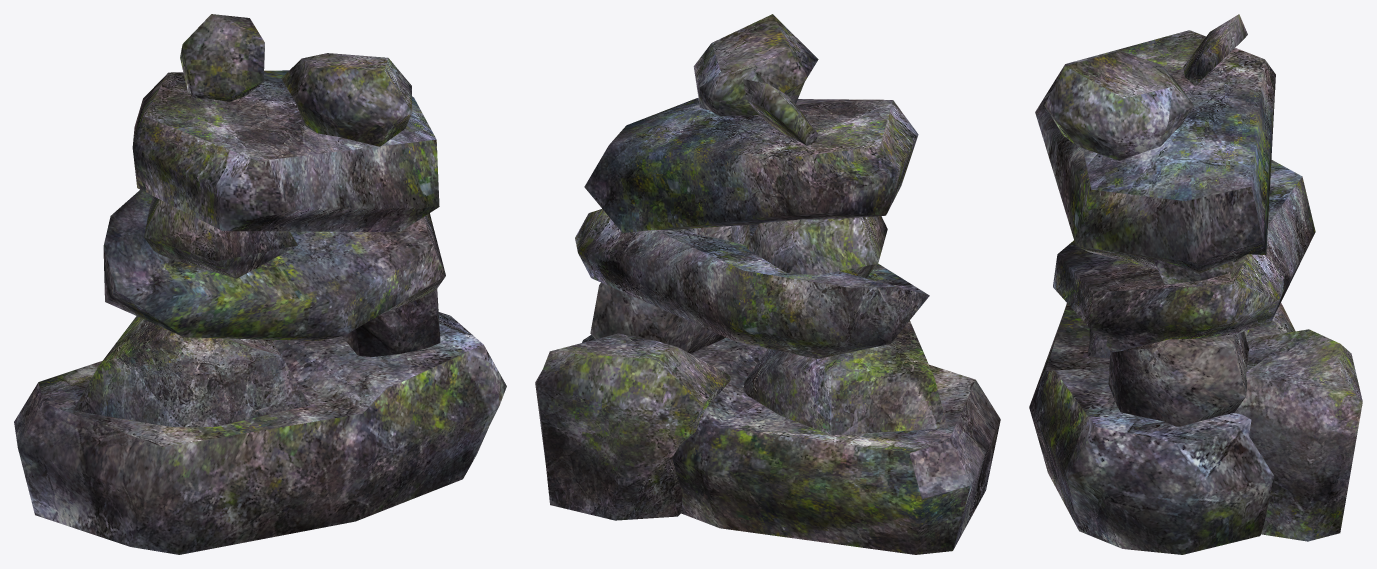
The model's file is cairn_02_02.fbx.
The picture shows the model from 3 angles, left to right: view 1: azimuth 30°, elevation 25°; view 2: azimuth 150°, elevation 25°; view 3: azimuth 270°, elevation 25°; orthographic projection. The views are drawn at different scales.
Visible parts, largest first — view 1: cairn_02_02; view 2: cairn_02_02; view 3: cairn_02_02.
Boxes of the visible parts, x1,y1,x2,y2 form: cairn_02_02: [14, 14, 506, 554]; cairn_02_02: [535, 14, 1000, 554]; cairn_02_02: [1029, 14, 1362, 554].
Size of the model in its own units: 16.97 by 18.44 by 11.51.
